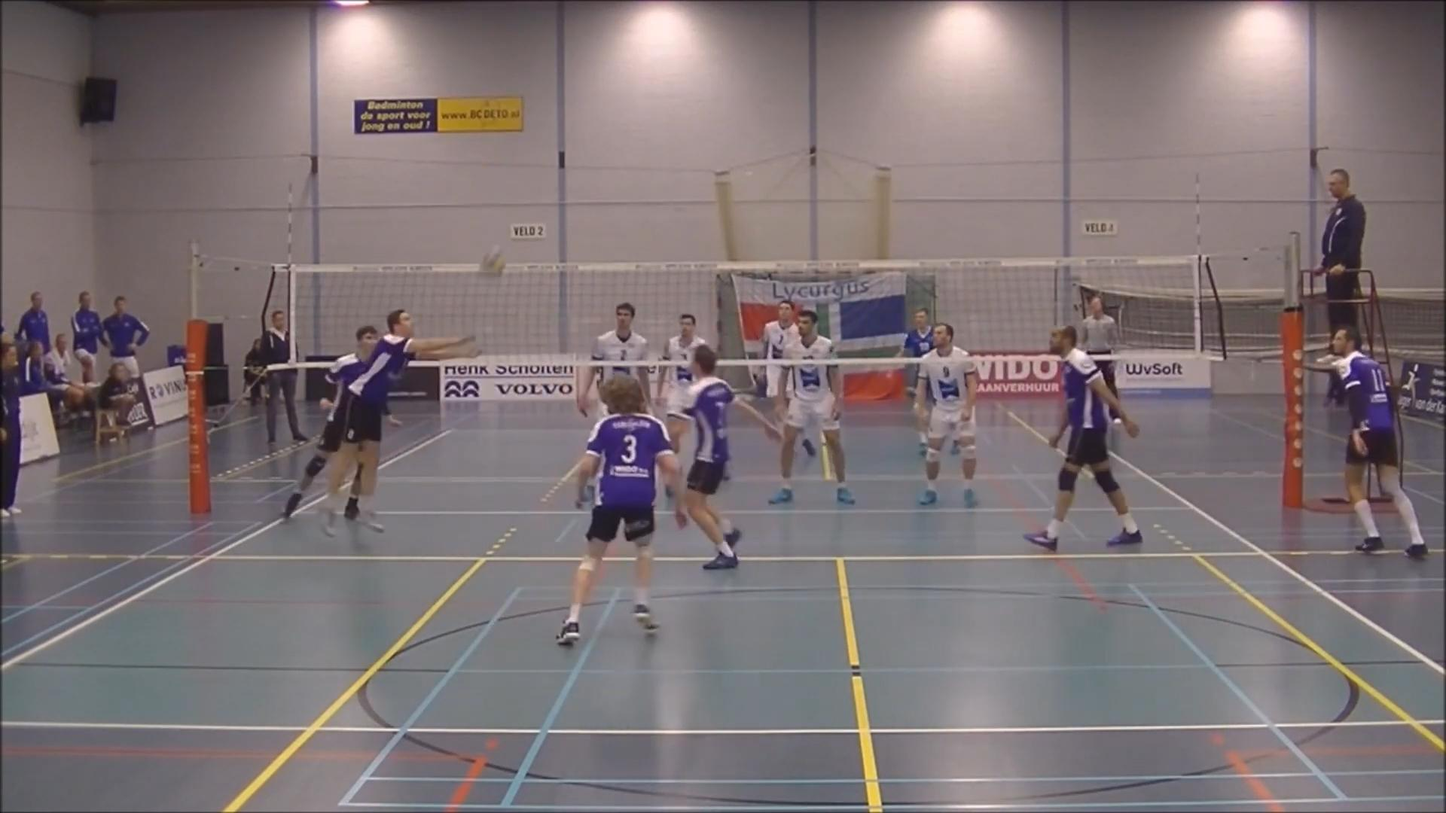Player: (556, 376, 680, 644), (1025, 325, 1142, 550), (670, 346, 779, 569), (1332, 327, 1426, 558), (283, 325, 377, 518), (770, 309, 853, 504), (916, 323, 977, 507), (576, 302, 650, 418), (654, 313, 706, 452), (761, 300, 798, 361), (895, 308, 933, 358)
Set: (264, 313, 492, 547)
ball: (478, 242, 506, 275)
